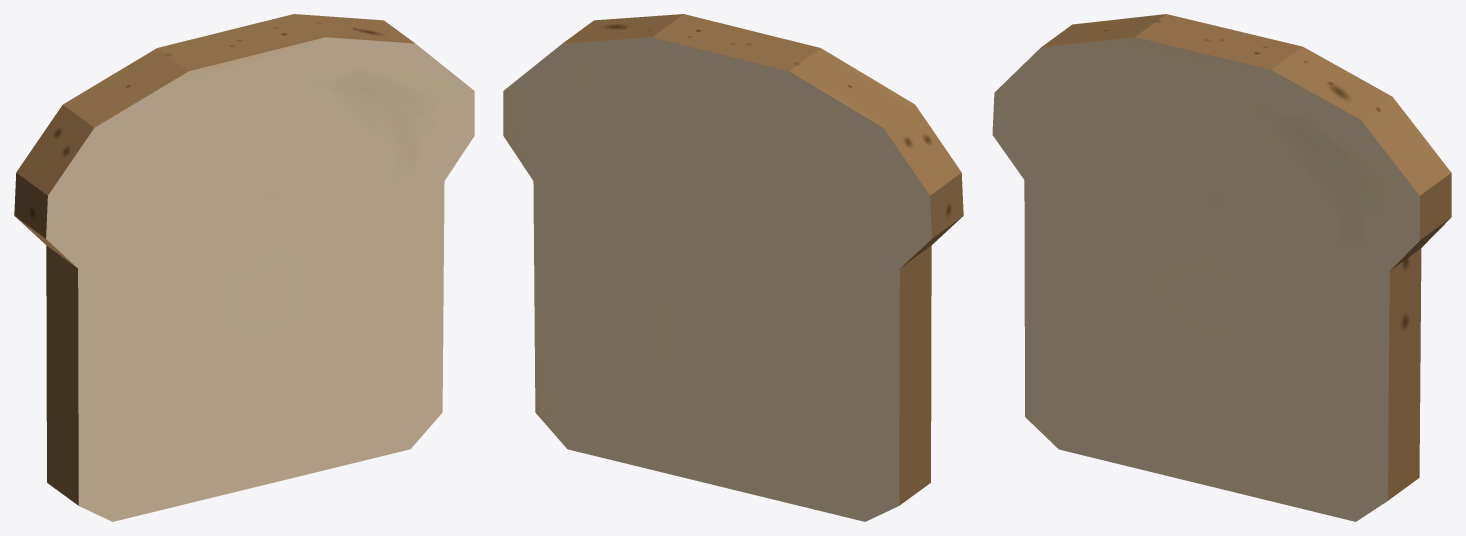
File: DilimEkmek.fbx
3 views of the same model, side by side, from view 1: azimuth 30°, elevation 25°; view 2: azimuth 150°, elevation 25°; view 3: azimuth 330°, elevation 25° (orthographic).
Parts seen in each view (by area): view 1: Cube.045; view 2: Cube.045; view 3: Cube.045.
Boxes of the visible parts, x1=… form: Cube.045: x1=14, y1=14, x2=474, y2=521; Cube.045: x1=503, y1=14, x2=963, y2=521; Cube.045: x1=992, y1=14, x2=1451, y2=521.
Bounding box in the file's own units: 65.06 × 62.77 × 8.35.
1 material, 1 textured.
